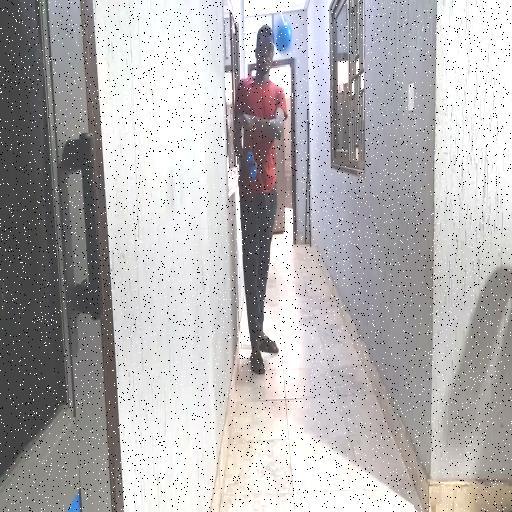plastic-ball: (273, 14, 292, 56)
